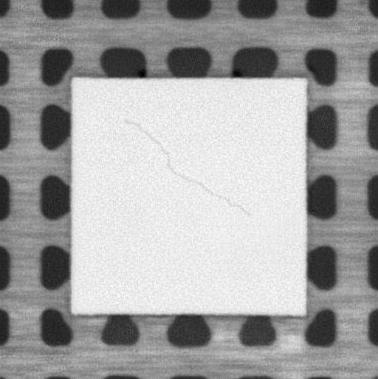DIE_CRACK: (123, 119, 251, 218)
